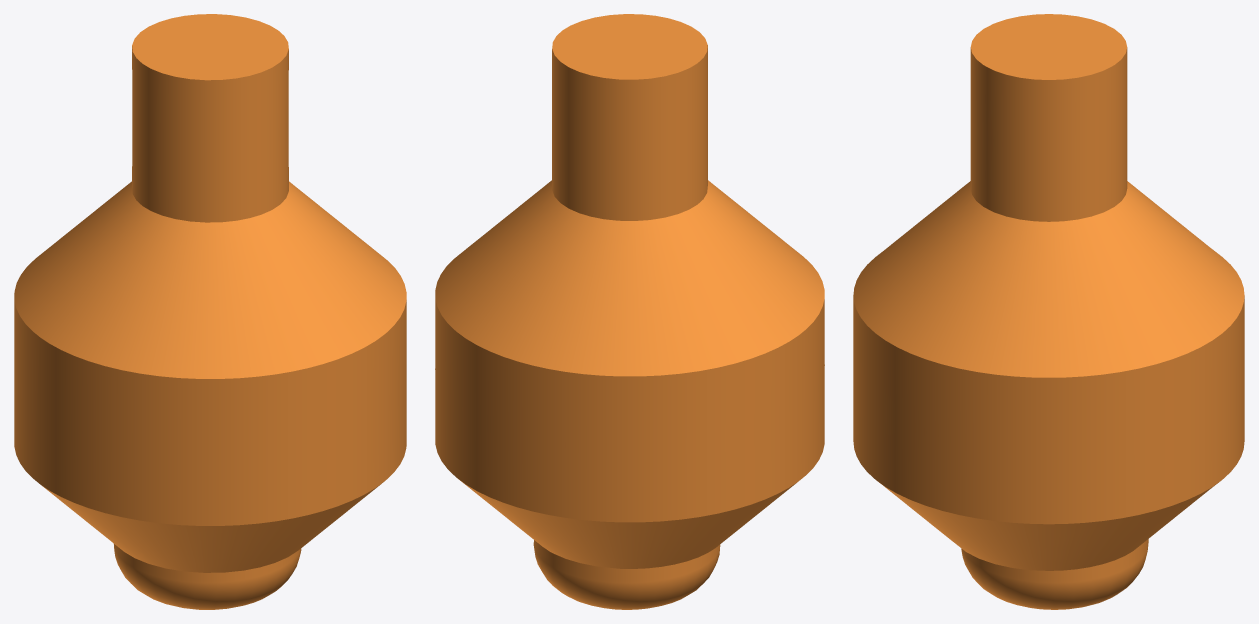
The model's file is missile.fbx.
3 views of the same model, side by side, from view 1: azimuth 30°, elevation 25°; view 2: azimuth 150°, elevation 25°; view 3: azimuth 270°, elevation 25° (orthographic).
Parts seen in each view (by area): view 1: Missile; view 2: Missile; view 3: Missile.
Boxes of the visible parts, x1,y1,x2,y2 form: Missile: (14, 14, 406, 609); Missile: (435, 14, 824, 609); Missile: (853, 14, 1244, 609).
Size of the model in its own units: 125 by 190 by 125.
